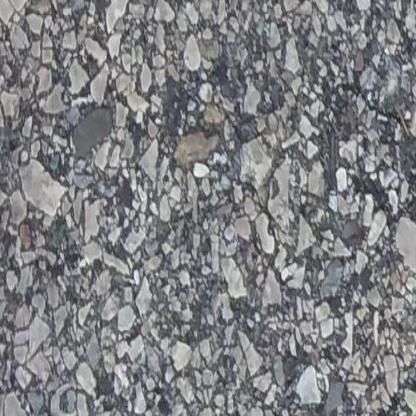Cracks: (246, 376, 416, 416)
